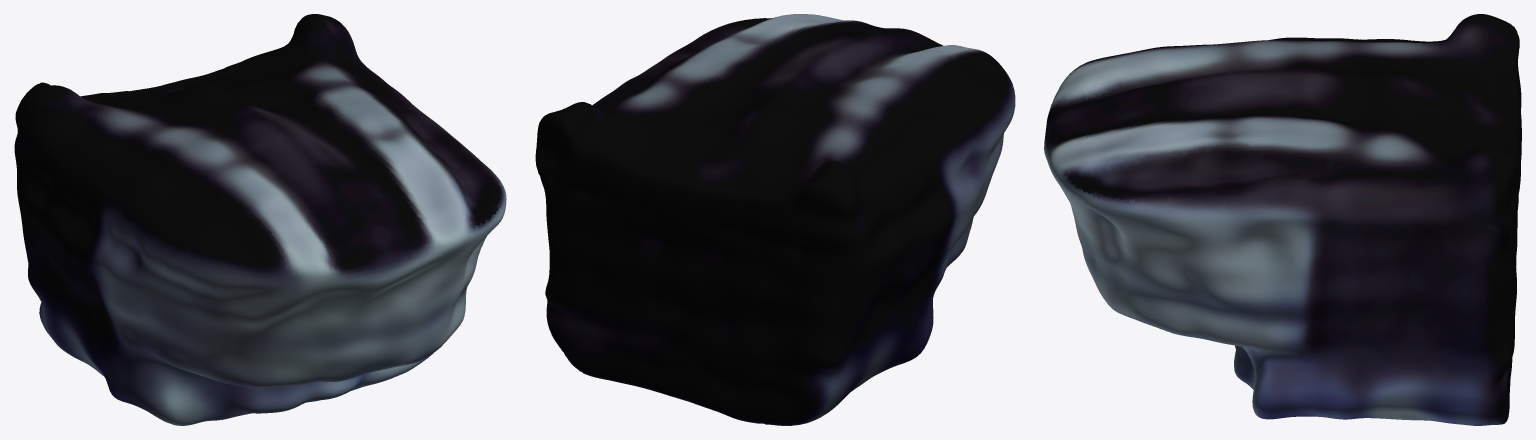
The model's file is backpack.glb.
The picture shows the model from 3 angles, left to right: view 1: azimuth 30°, elevation 25°; view 2: azimuth 150°, elevation 25°; view 3: azimuth 270°, elevation 25°; orthographic projection. The views are drawn at different scales.
Bounding box in the file's own units: 0.8767 × 0.6837 × 0.9997.
